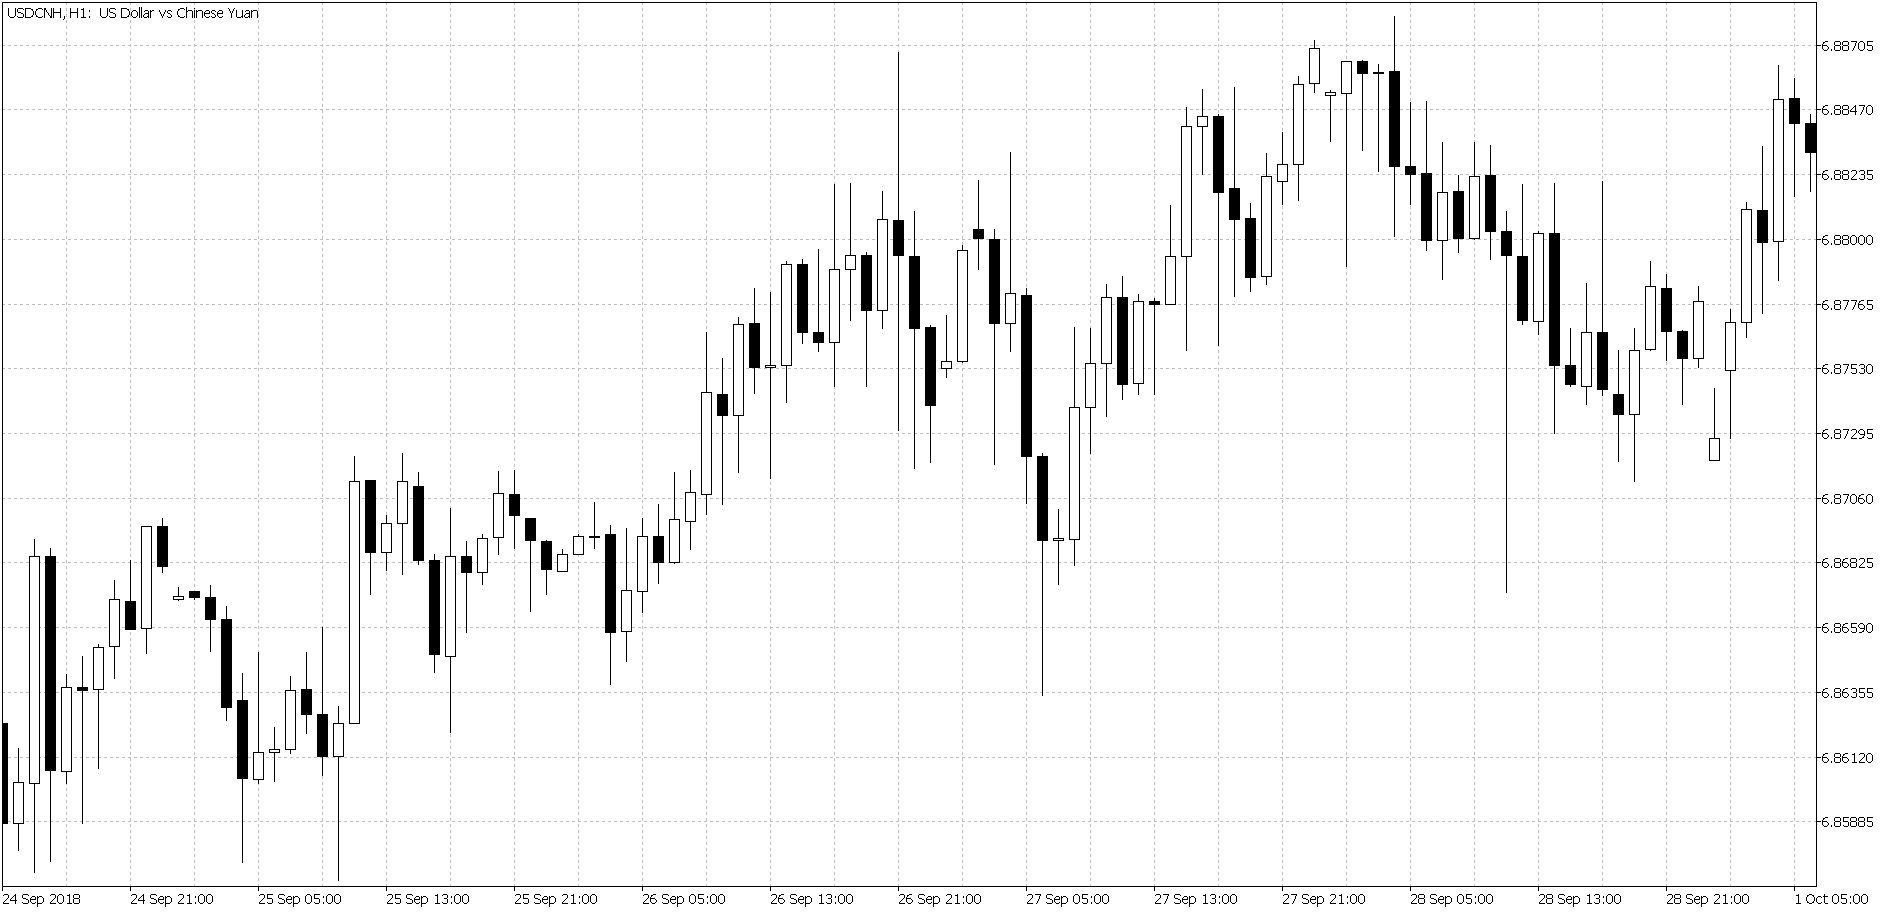bullishEngulfing: (1244, 158, 1274, 287)
hammer: (1321, 86, 1337, 158)
morningDojiStar: (1036, 331, 1083, 581)
